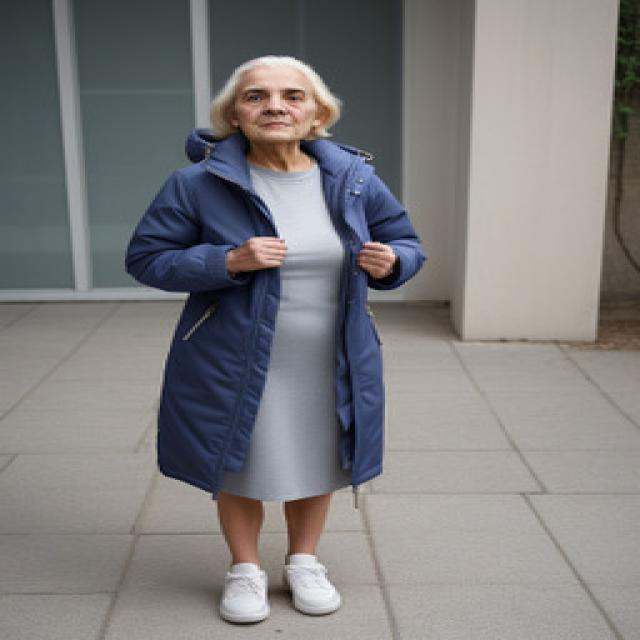Ai human 2: (105, 45, 465, 640)
